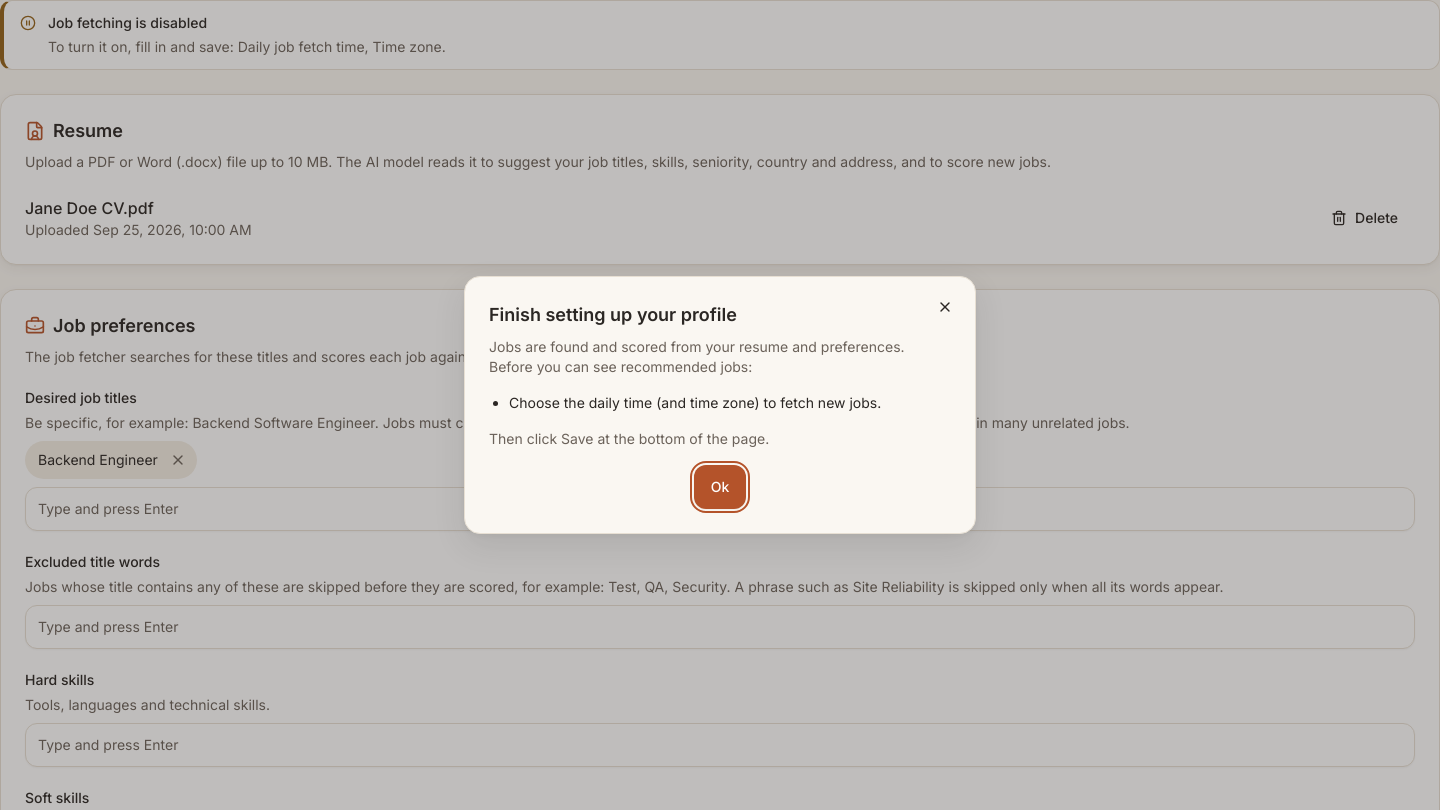
Test case: ProfileForm › says whether job fetching is enabled, from the saved profile
The image size is (1440, 810).
Click the button "Ok" at (720, 487), box 694,465 -> 746,509
(page scrolled)
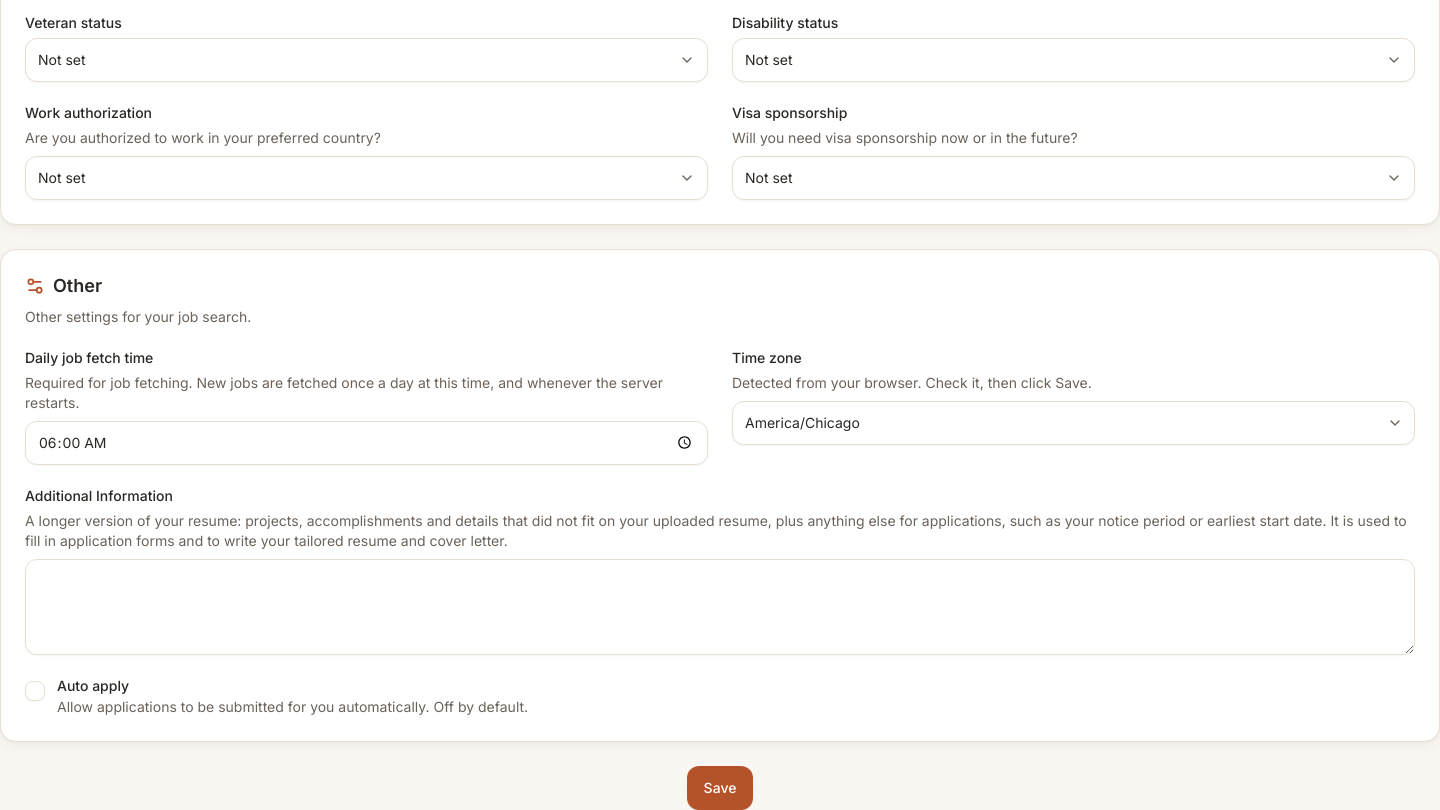
Click the button "Save" at (720, 788), box 687,766 -> 753,809
(page scrolled)
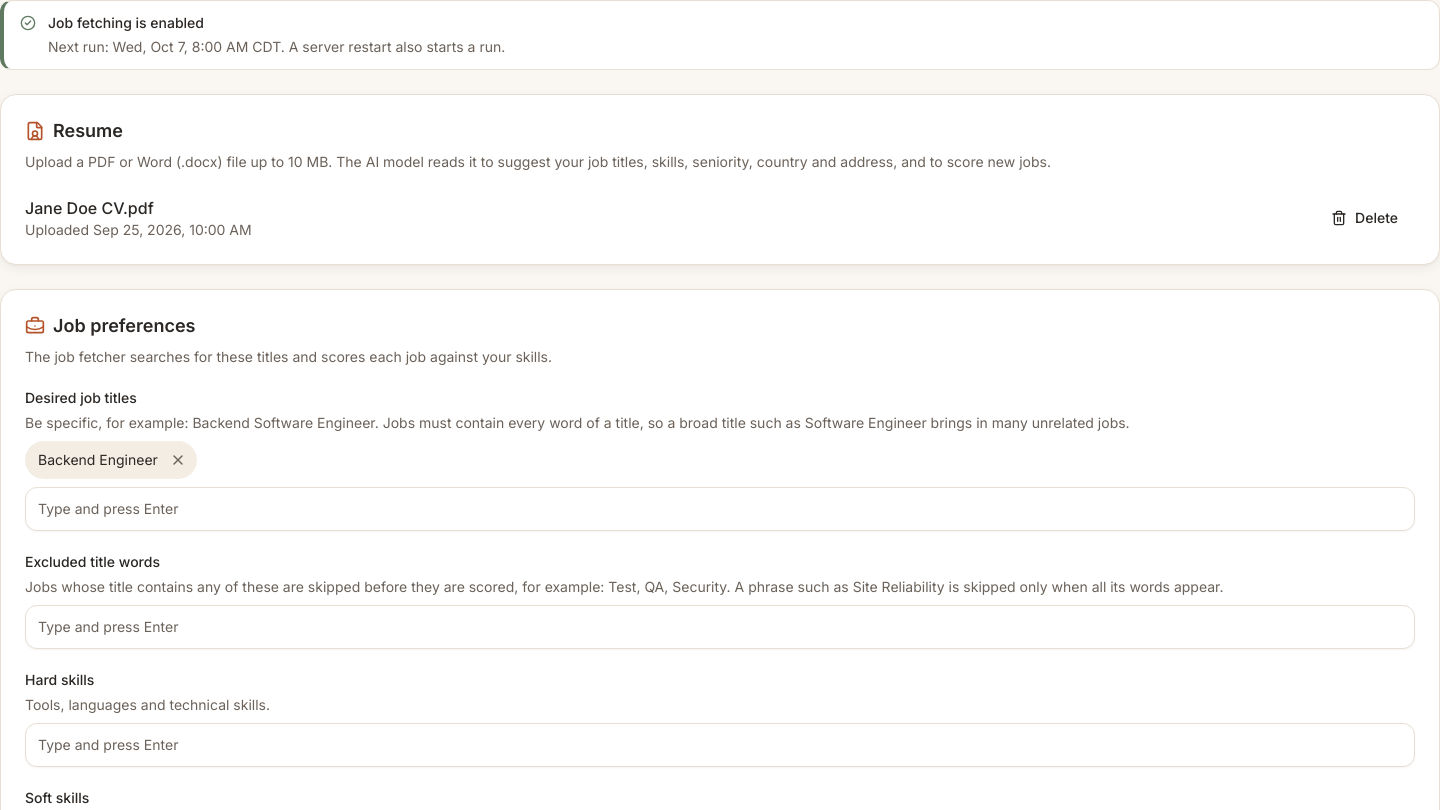
Now the text "Job fetching is enabled" is shown, box 48,14 -> 204,31
